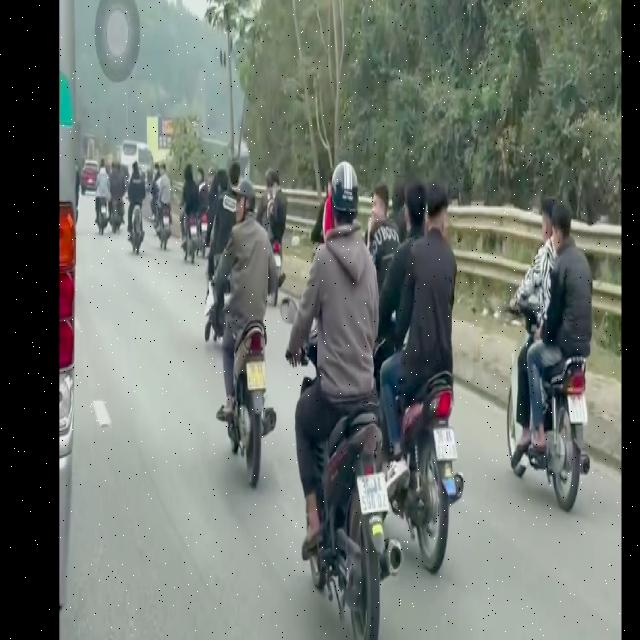helmet: (330, 161, 357, 242), (236, 176, 254, 238)
